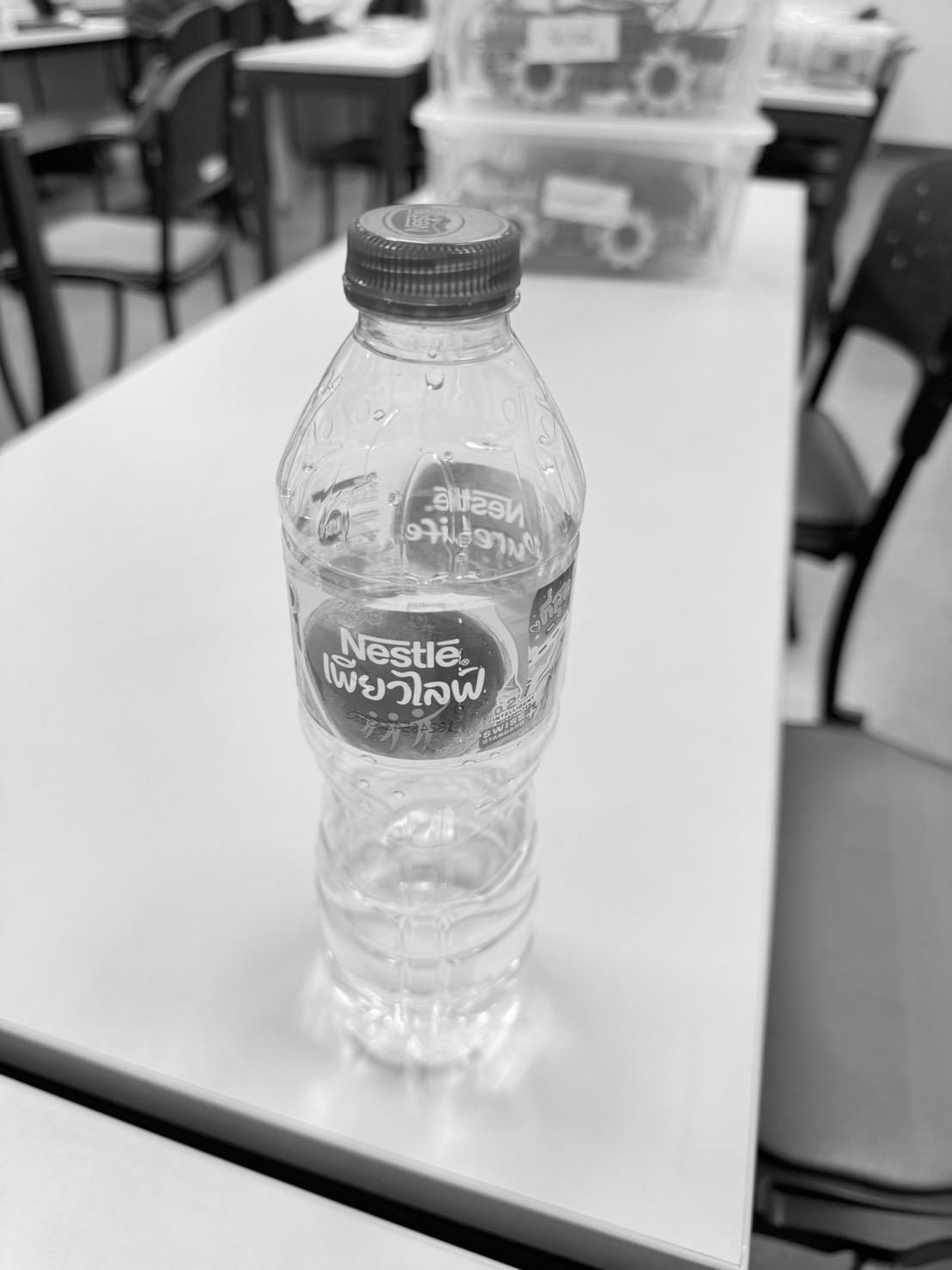bottle: (278, 206, 584, 1071)
